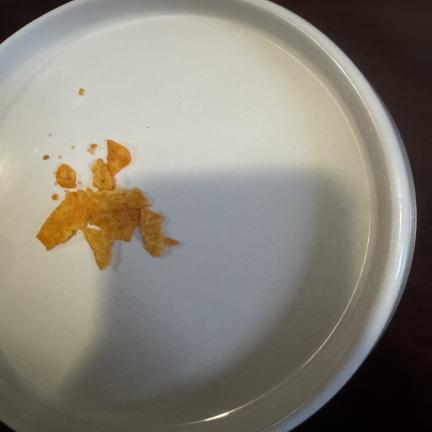chips: (31, 124, 193, 279)
